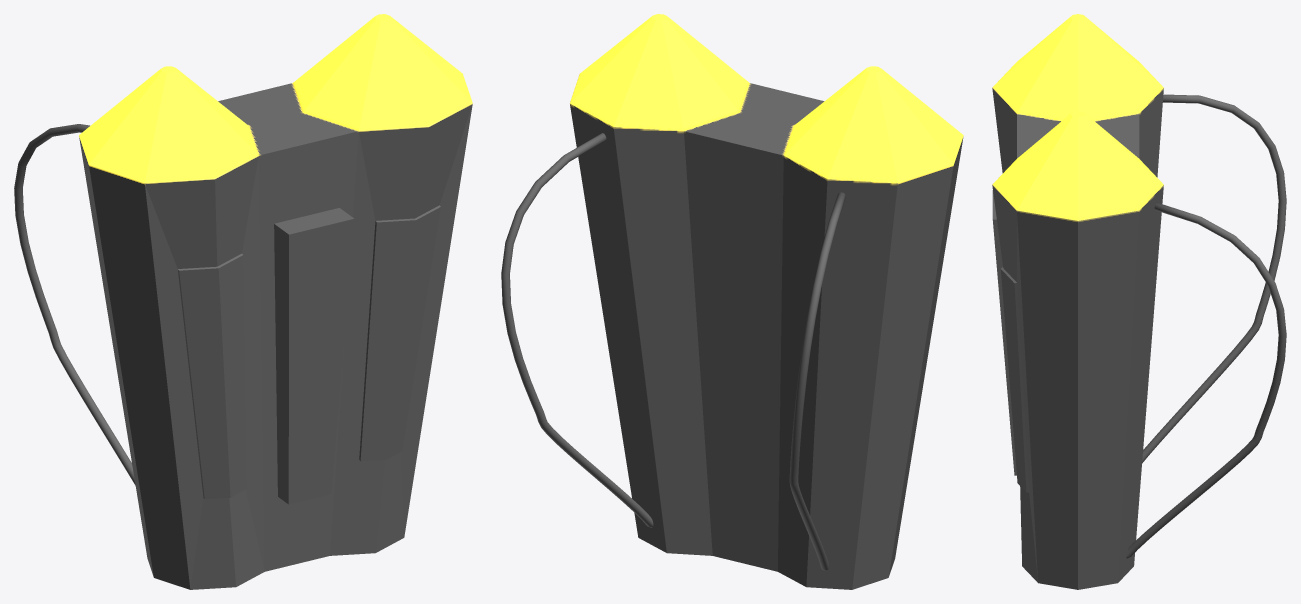
File: Jetpack.glb
3 views of the same model, side by side, from view 1: azimuth 30°, elevation 25°; view 2: azimuth 150°, elevation 25°; view 3: azimuth 270°, elevation 25° (orthographic). The views are drawn at different scales.
Visible parts, largest first — view 1: BezierCurve.040; view 2: BezierCurve.040; view 3: BezierCurve.040.
Part boxes in pixels (box(x1,y1,x2,y2)): BezierCurve.040: box(14, 14, 472, 589); BezierCurve.040: box(501, 14, 963, 589); BezierCurve.040: box(992, 14, 1286, 589).
Bounding box in the file's own units: 0.5243 × 0.6762 × 0.3847.
1 material, 1 textured.
